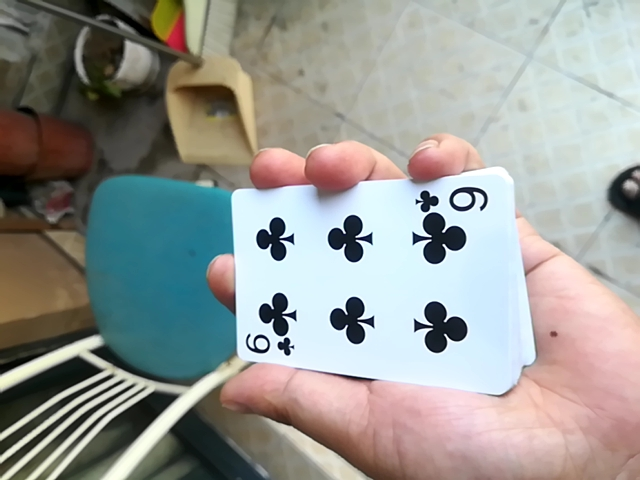mh 6: (222, 167, 538, 392)
